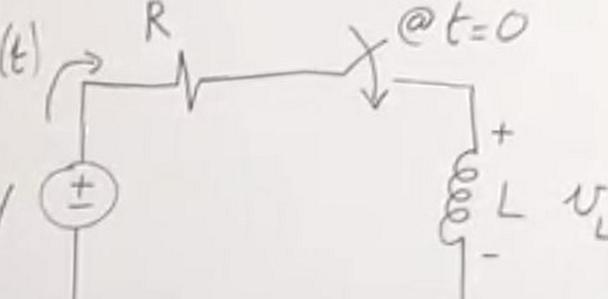Battery: (24, 150, 131, 249)
